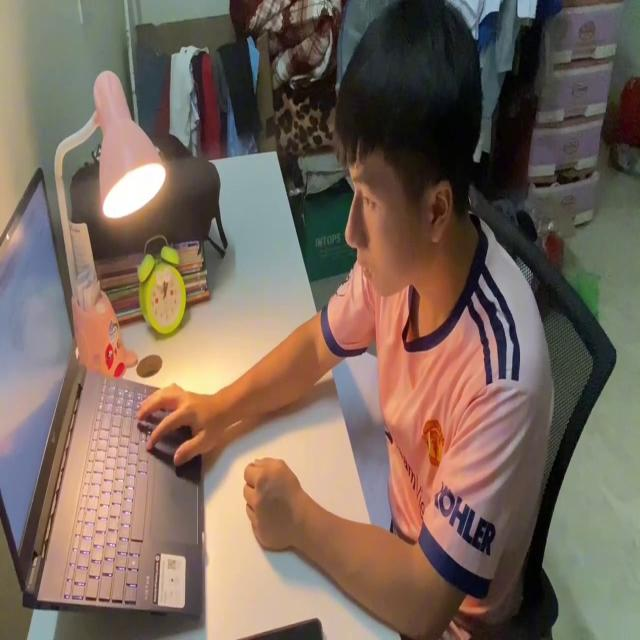book: (334, 348, 392, 540)
laptop: (0, 168, 205, 627)
phone: (234, 606, 322, 640)
student: (133, 0, 554, 640)
